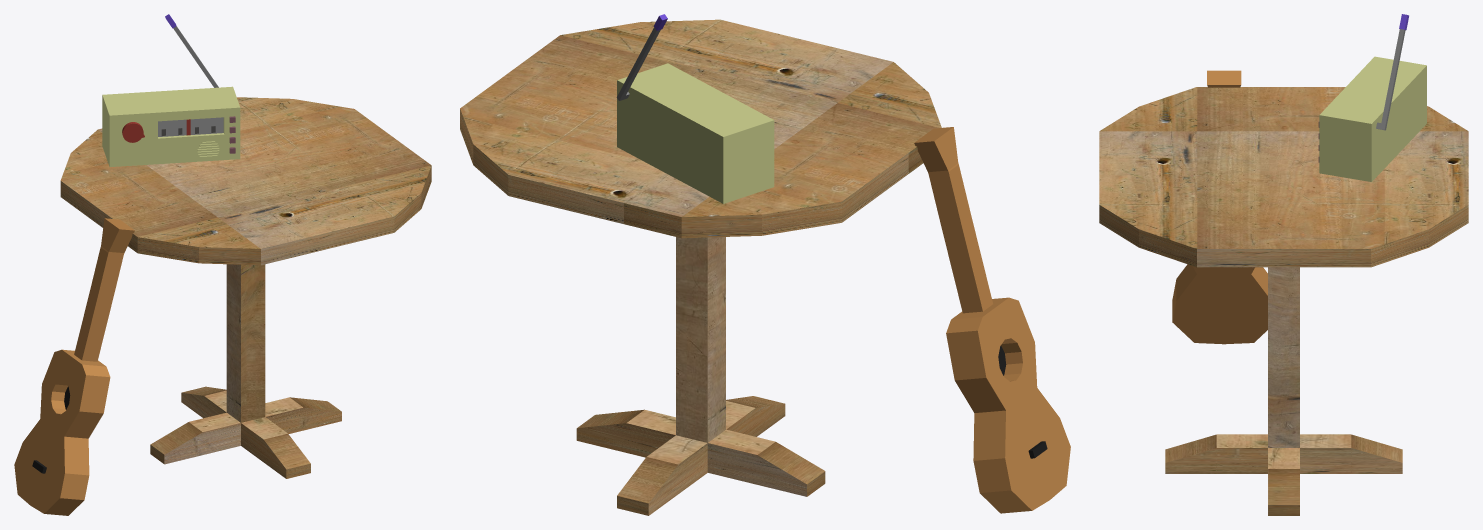
Rendered from Mesa_Quarto_Vanessa.fbx.
The picture shows the model from 3 angles, left to right: view 1: azimuth 30°, elevation 25°; view 2: azimuth 150°, elevation 25°; view 3: azimuth 270°, elevation 25°; orthographic projection. The views are drawn at different scales.
Parts seen in each view (by area): view 1: Mesa.001, Viola, Radio; view 2: Mesa.001, Viola, Radio; view 3: Mesa.001, Radio, Viola.
Part boxes in pixels (x1=…): Mesa.001: x1=60, y1=97, x2=431, y2=478; Viola: x1=14, y1=218, x2=134, y2=515; Radio: x1=102, y1=14, x2=240, y2=166; Mesa.001: x1=460, y1=19, x2=941, y2=515; Viola: x1=914, y1=127, x2=1070, y2=513; Radio: x1=616, y1=14, x2=774, y2=203; Mesa.001: x1=1099, y1=87, x2=1468, y2=515; Radio: x1=1318, y1=14, x2=1426, y2=181; Viola: x1=1172, y1=70, x2=1267, y2=344.
Bounding box in the file's own units: 151 × 144 × 110.
